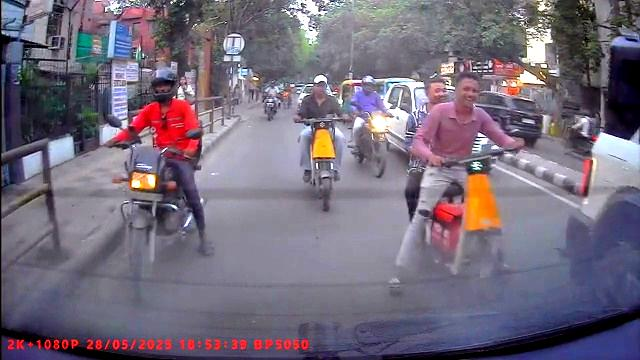motorcycle_with_helmet: (104, 62, 209, 304), (349, 72, 391, 180)
motorcycle_without_helmet: (399, 74, 515, 309), (293, 71, 344, 212)
